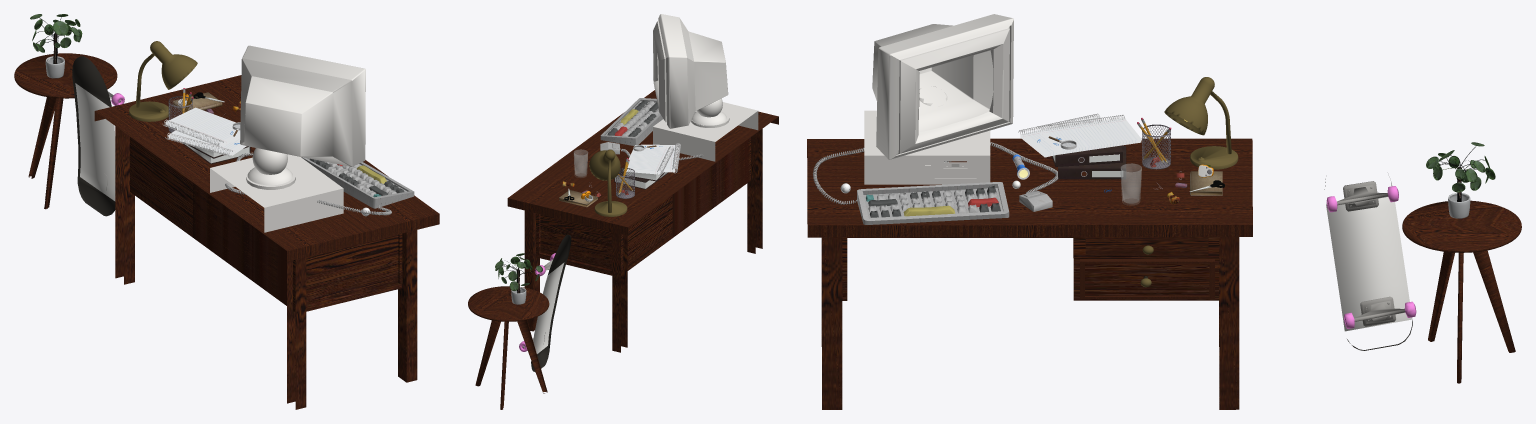
Rendered from room_3-transformed.glb.
3 renders of one model, left to right at view 1: azimuth 30°, elevation 25°; view 2: azimuth 150°, elevation 25°; view 3: azimuth 270°, elevation 25°, orthographic. The views are drawn at different scales.
Visible parts, largest first — view 1: Cube.034, compHead, Cube.029, et_09 - Default_0, skateboard, Corner table-02, Cube.031, Cube.030, Cube.033, keyboard, tableLamp, notebook1 (+5 smaller); view 2: Cube.029, Cube.034, compHead, Corner table-02, et_09 - Default_0, skateboard, Cube.033, keyboard, Cube.031, tableLamp, notebook1, Cube.032 (+7 smaller); view 3: Cube.029, compHead, skateboard, Corner table-02, Cube.034, keyboard, et_09 - Default_0, Cube.030, Cube.032, tableLamp, notebook1, Cube.011 (+8 smaller).
Part boxes in pixels (<box>): Cube.034: <box>130,137,402,312</box>; compHead: <box>240,45,365,166</box>; Cube.029: <box>94,75,439,261</box>; et_09 - Default_0: <box>210,154,343,232</box>; skateboard: <box>72,56,124,216</box>; Corner table-02: <box>14,53,117,209</box>; Cube.031: <box>287,251,306,409</box>; Cube.030: <box>398,230,417,382</box>; Cube.033: <box>115,126,134,284</box>; keyboard: <box>301,157,414,208</box>; tableLamp: <box>129,41,197,121</box>; notebook1: <box>162,107,240,146</box>; Cube.029: <box>507,90,778,235</box>; Cube.034: <box>536,137,750,275</box>; compHead: <box>653,14,728,128</box>; Corner table-02: <box>468,286,549,409</box>; et_09 - Default_0: <box>653,102,758,161</box>; skateboard: <box>519,234,571,372</box>; Cube.033: <box>612,232,627,352</box>; keyboard: <box>600,98,662,145</box>; Cube.031: <box>747,129,762,253</box>; tableLamp: <box>589,149,627,216</box>; notebook1: <box>623,145,674,175</box>; Cube.032: <box>524,210,539,331</box>; Cube.029: <box>807,138,1252,237</box>; compHead: <box>872,14,1013,159</box>; skateboard: <box>1324,179,1416,350</box>; Corner table-02: <box>1402,200,1521,383</box>; Cube.034: <box>842,237,1219,300</box>; keyboard: <box>857,182,1009,224</box>; et_09 - Default_0: <box>864,110,990,184</box>; Cube.030: <box>822,237,842,409</box>; Cube.032: <box>1219,237,1239,409</box>; tableLamp: <box>1164,77,1238,169</box>; notebook1: <box>1039,114,1141,154</box>; Cube.011: <box>1085,237,1208,255</box>.
Bounding box in the file's own units: 1.51 × 2.79 × 5.26.
26 materials, 26 textured.
